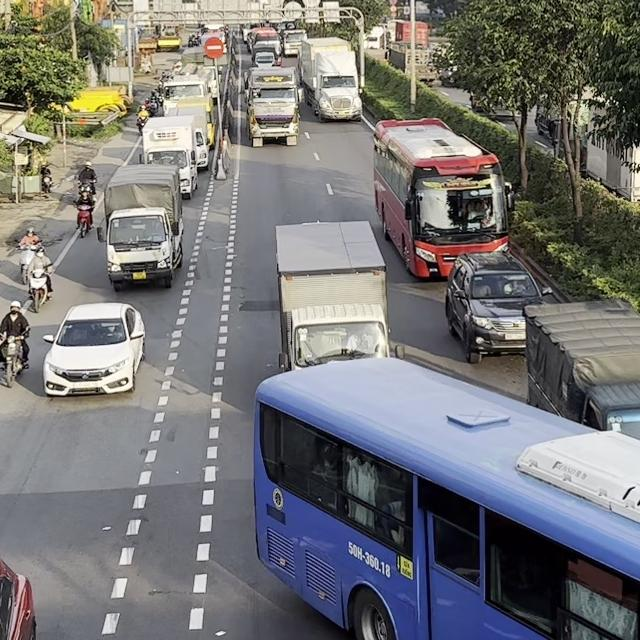bus: (252, 354, 639, 639), (371, 116, 514, 279)
car: (444, 250, 553, 364), (41, 301, 145, 397)
motorcycle: (0, 330, 30, 387), (26, 264, 54, 313), (14, 240, 42, 285), (73, 199, 95, 238), (76, 179, 96, 197)
truck: (274, 219, 395, 371), (522, 296, 639, 440), (96, 163, 184, 291), (297, 36, 362, 122), (139, 114, 204, 199), (244, 66, 301, 147)
